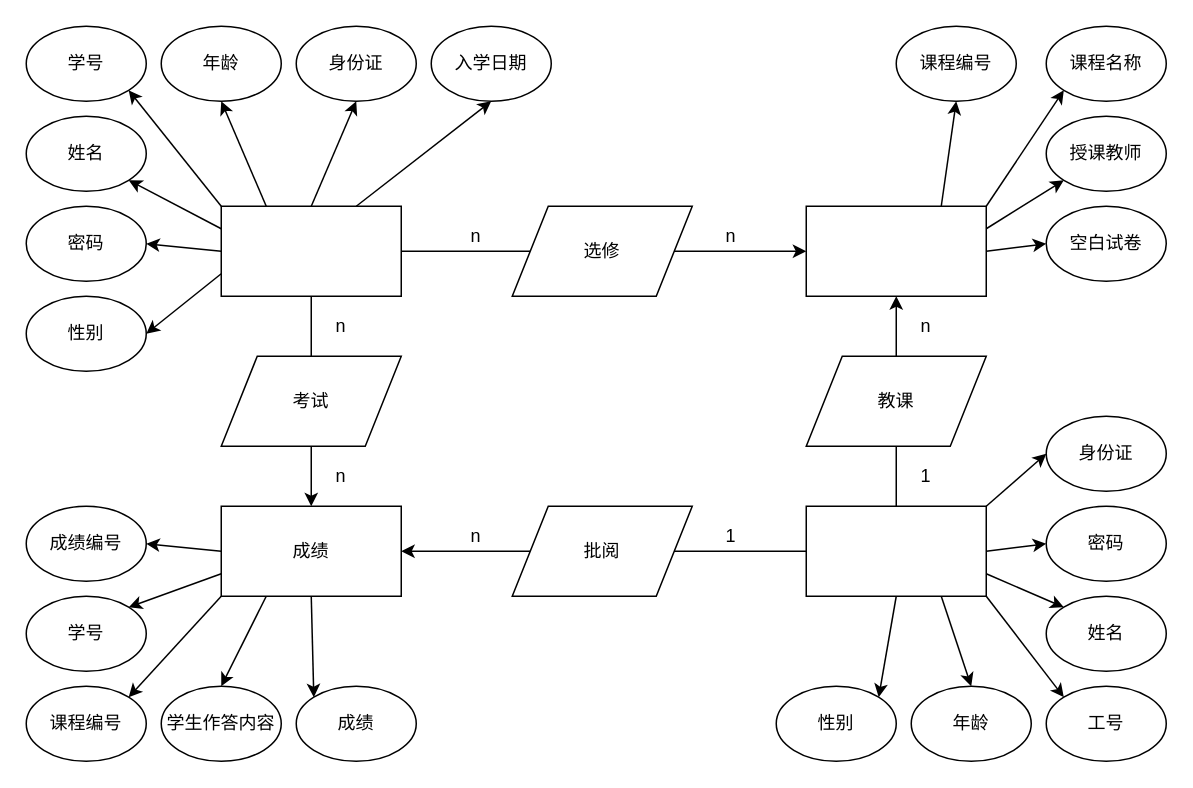
This 1193x788 diagram has some shape labels left out. The box of each missing label's shape, as (x1, y1, x2, y2) in pixels:
学生: (220, 205, 401, 296)
老师: (805, 505, 986, 596)
课程: (805, 205, 986, 296)
